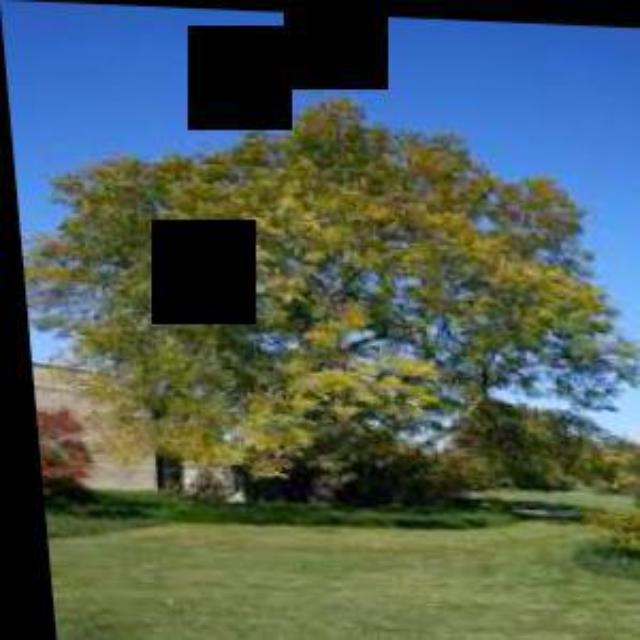tree: (5, 67, 638, 536)
